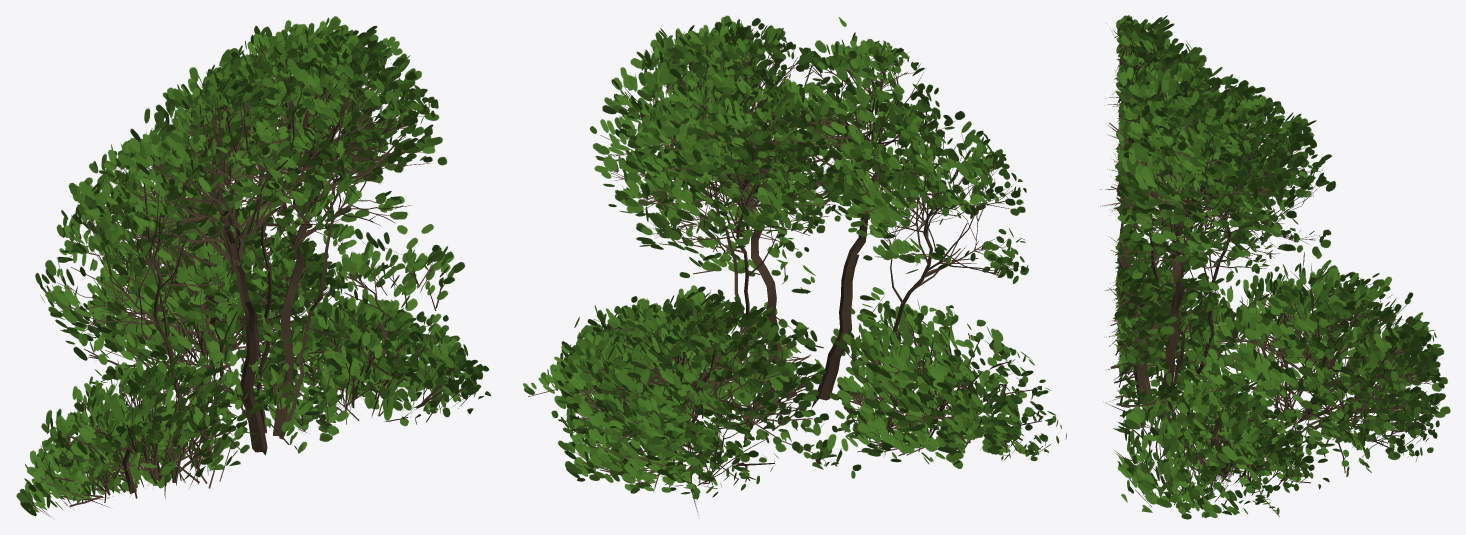
3 renders of one model, left to right at view 1: azimuth 30°, elevation 25°; view 2: azimuth 150°, elevation 25°; view 3: azimuth 270°, elevation 25°, orthographic. The views are drawn at different scales.
Visible parts, largest first — view 1: oak 01.001_trunk_Mat.001_0.501; view 2: oak 01.001_trunk_Mat.001_0.501; view 3: oak 01.001_trunk_Mat.001_0.501.
Boxes of the visible parts, x1,y1,x2,y2 form: oak 01.001_trunk_Mat.001_0.501: (16,16,491,519); oak 01.001_trunk_Mat.001_0.501: (523,15,1066,518); oak 01.001_trunk_Mat.001_0.501: (1100,15,1450,519).
Size of the model in its own units: 5.36 by 4.36 by 3.54.
2 materials, 1 textured.
